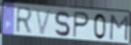0: (93, 13, 107, 40)
M: (108, 14, 130, 43)
P: (72, 10, 91, 39)
R: (15, 5, 35, 36)
S: (53, 10, 71, 38)
V: (34, 8, 53, 37)
